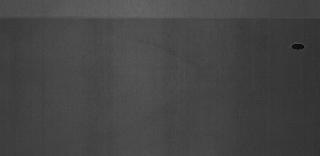punching hole: (290, 42, 308, 52)
welding line: (2, 12, 316, 24)
